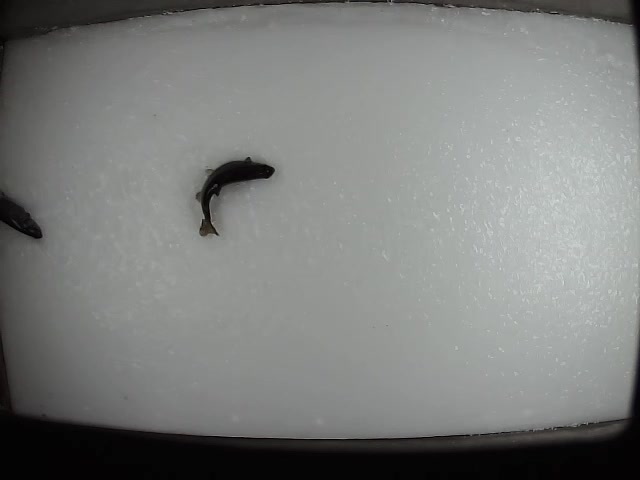Fish: (195, 157, 274, 236)
